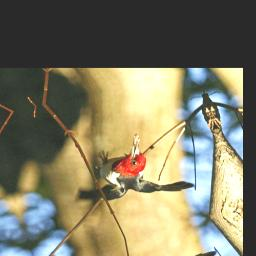Woodpecker: (60, 122, 203, 220)
